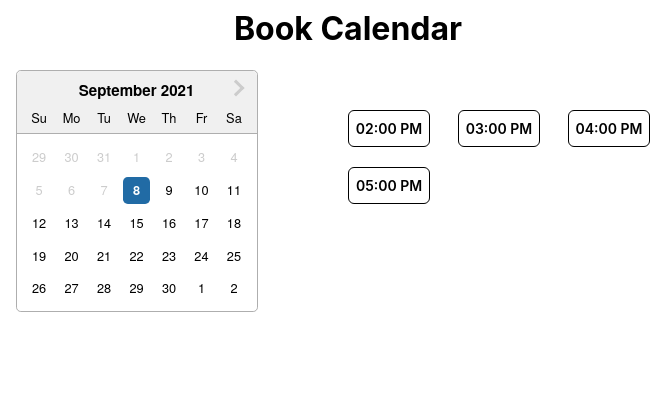
Test: render dashboard component › selecting date and time from dashboard
Click the option "9".
click(169, 189)  # box [165,180,172,199]
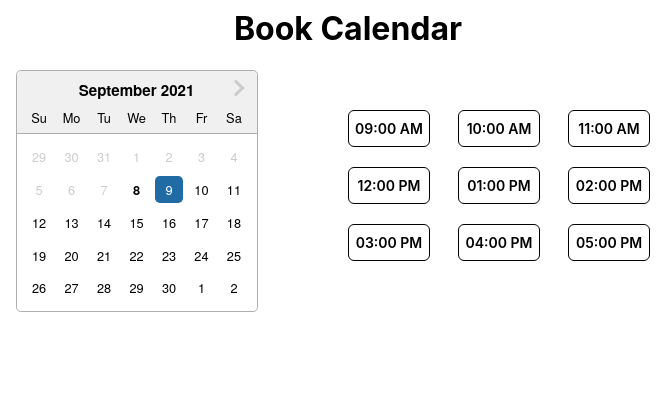
Click the text "01:00 PM".
click(499, 185)  # box [458,167,540,204]
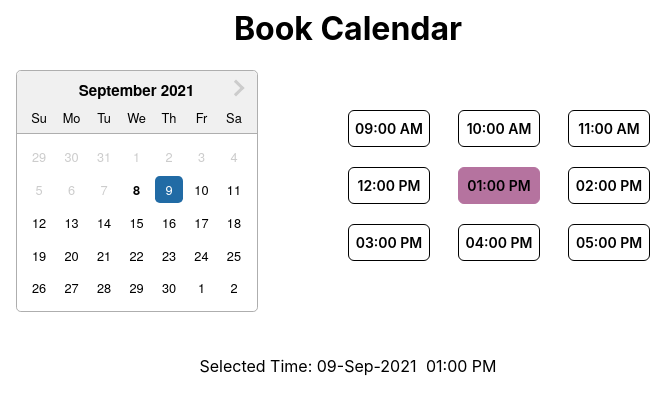
Result: the text "Selected Time: 09-Sep-2021 01:00 PM" is shown at [200,356,497,376]
Result: the text "01:00 PM" next to "09-Sep-2021" is shown at [426,356,497,376]
